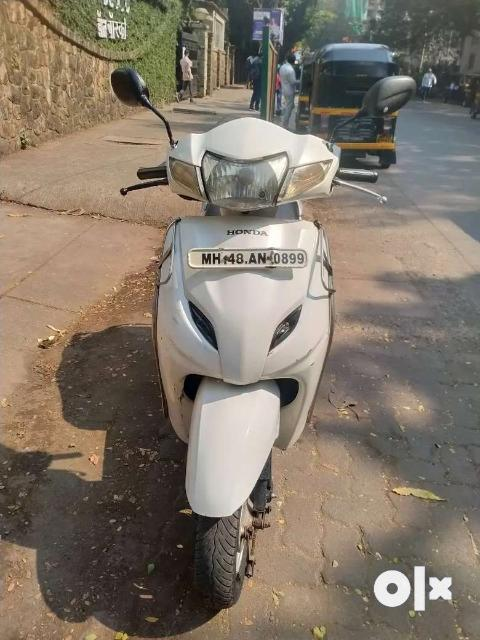Indian_Number_Plate: (191, 248, 306, 267)
